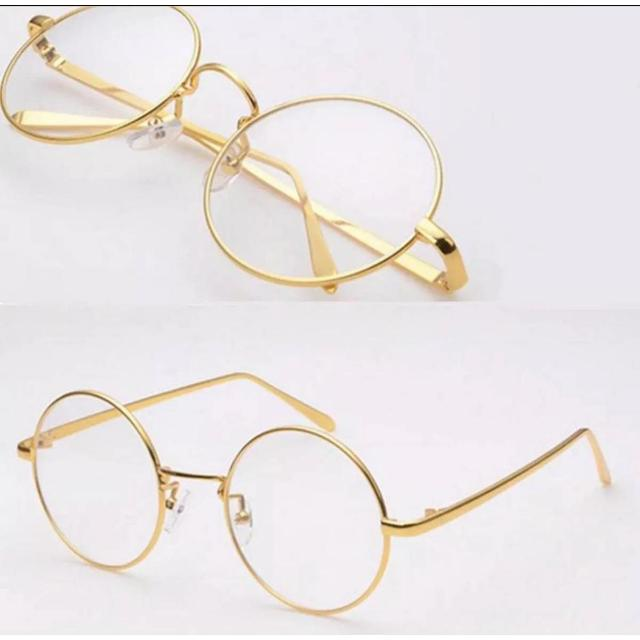glasses: (7, 6, 471, 306), (34, 364, 552, 614)
